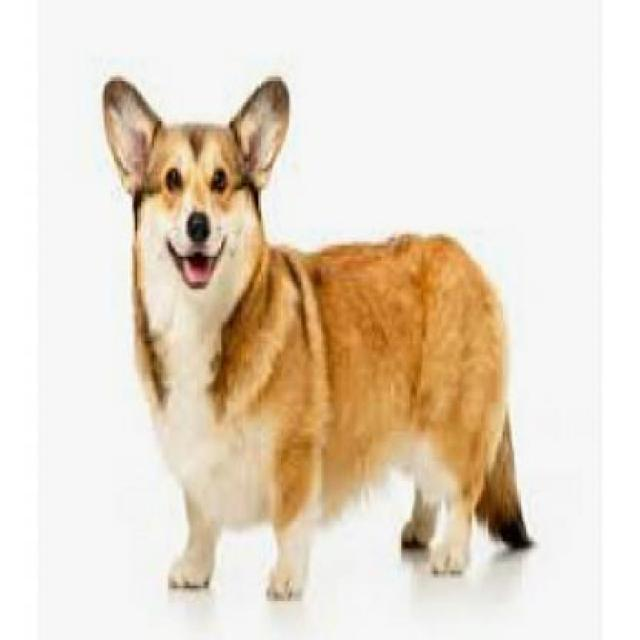Dog: (102, 72, 540, 603)
